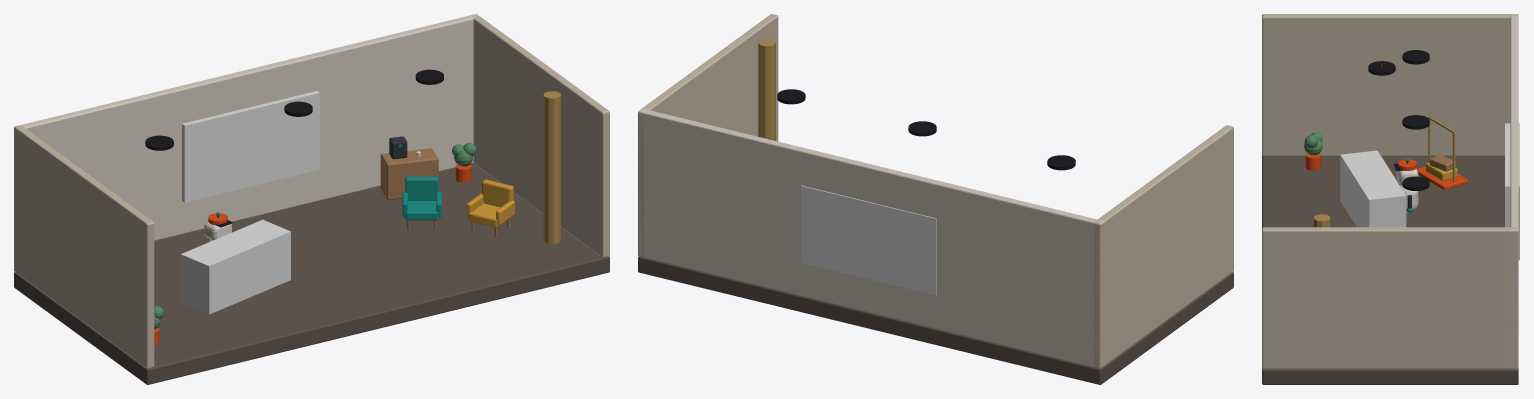
Rendered from booking.glb.
3 renders of one model, left to right at view 1: azimuth 30°, elevation 25°; view 2: azimuth 150°, elevation 25°; view 3: azimuth 270°, elevation 25°, orthographic. The views are drawn at different scales.
Parts seen in each view (by area): view 1: static, hit__board, hit__concierge; view 2: static, hit__board; view 3: static, hit__concierge, hit__board, dyn__concierge__head.
Boxes of the visible parts, x1,y1,x2,y2 form: static: [14, 14, 609, 384]; hit__board: [182, 91, 319, 202]; hit__concierge: [180, 219, 290, 314]; static: [638, 14, 1233, 384]; hit__board: [801, 185, 936, 295]; static: [1262, 14, 1518, 384]; hit__concierge: [1340, 150, 1406, 227]; hit__board: [1505, 123, 1519, 260]; dyn__concierge__head: [1393, 158, 1418, 185].
Size of the model in its own units: 12 by 4.03 by 6.03.
